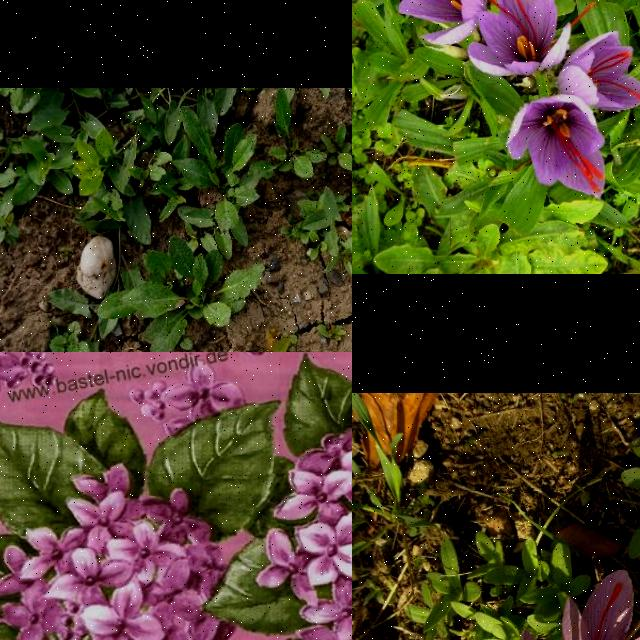flower: (506, 94, 606, 200), (468, 0, 598, 77), (520, 570, 640, 640), (556, 31, 640, 113), (378, 0, 490, 46)
